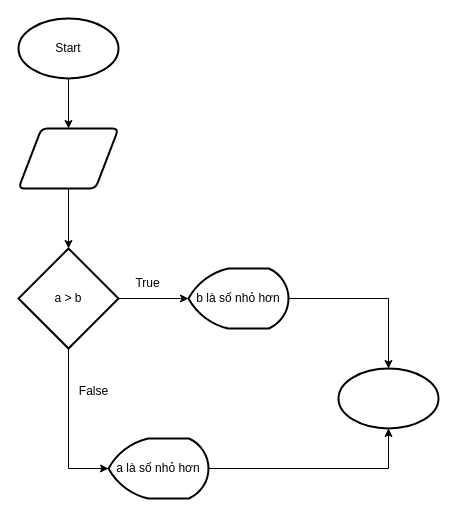
Image size: 456x516. Some labels were removed from this diagram. The centre of each missing label's shape, as x and y in pixels:
a, b: pixel 68 158
End.: pixel 388 398
